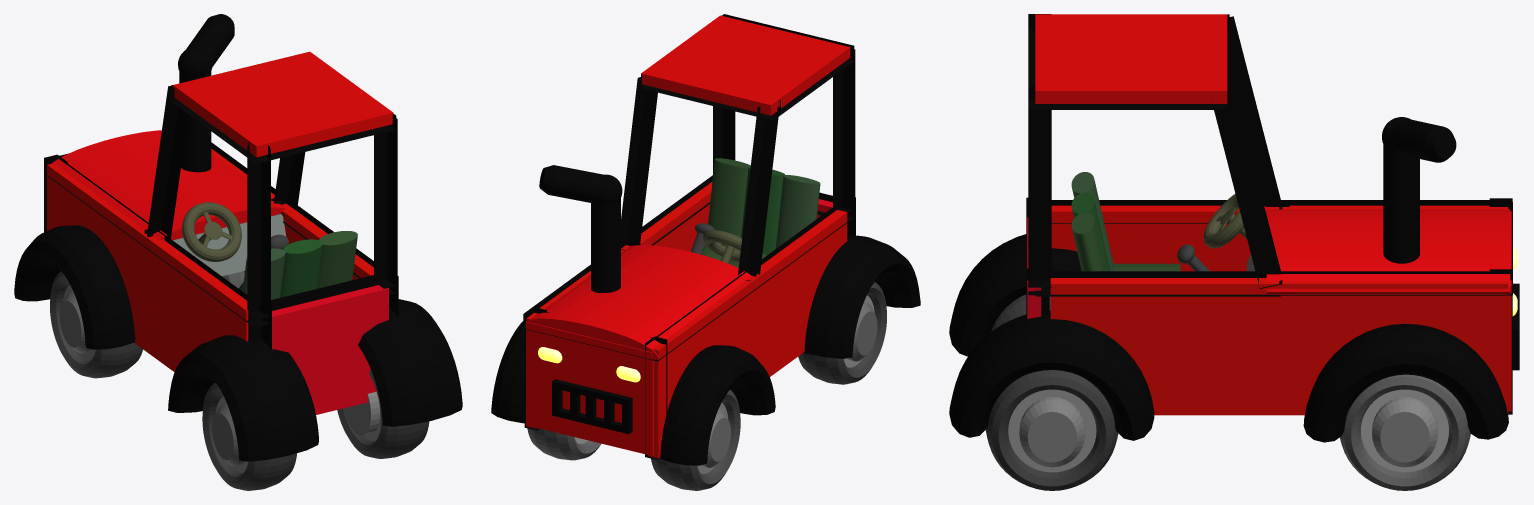
File: тактор.fbx
3 renders of one model, left to right at view 1: azimuth 30°, elevation 25°; view 2: azimuth 150°, elevation 25°; view 3: azimuth 270°, elevation 25°, orthographic. The views are drawn at different scales.
Visible parts, largest first — view 1: Cube.002; view 2: Cube.002, Mball; view 3: Cube.002.
Part boxes in pixels (x1,y1,x2,y2): Cube.002: (14, 14, 462, 490); Cube.002: (491, 14, 920, 490); Mball: (538, 347, 640, 382); Cube.002: (949, 14, 1519, 490).
Bounding box in the file's own units: 197 × 286 × 373.
